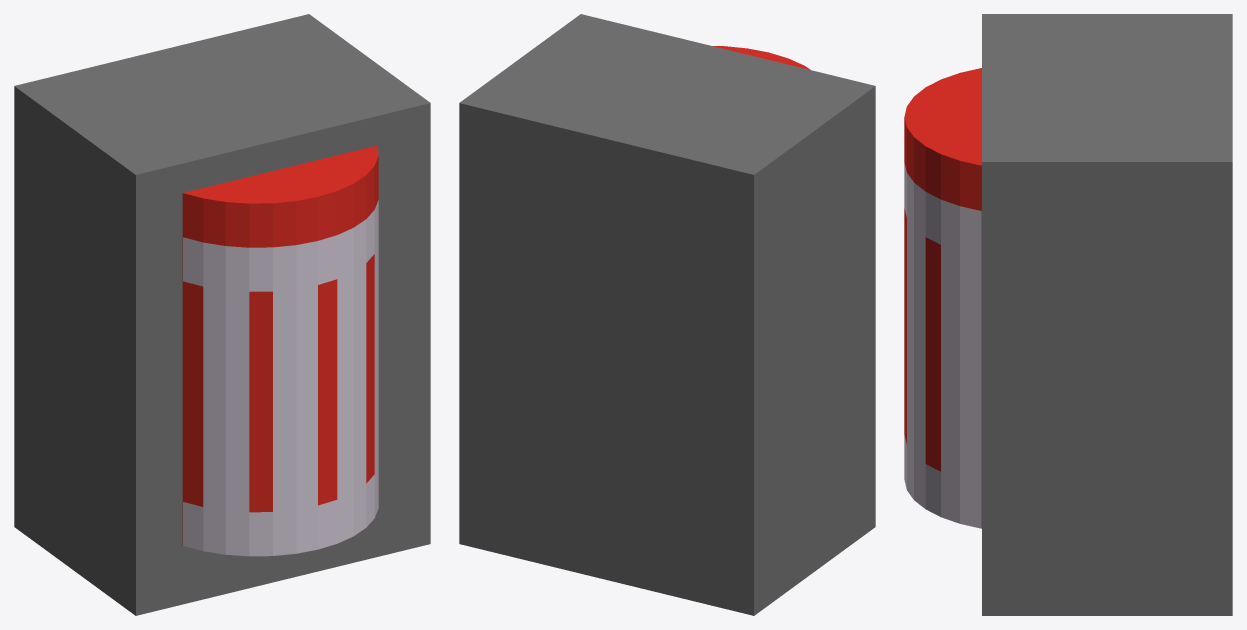
The model's file is boiler.glb.
The picture shows the model from 3 angles, left to right: view 1: azimuth 30°, elevation 25°; view 2: azimuth 150°, elevation 25°; view 3: azimuth 270°, elevation 25°; orthographic projection. The views are drawn at different scales.
Parts seen in each view (by area): view 1: Boiler; view 2: Boiler; view 3: Boiler.
Boxes of the visible parts, bbox=[...] form: Boiler: bbox=[14, 14, 430, 615]; Boiler: bbox=[459, 14, 875, 615]; Boiler: bbox=[904, 14, 1232, 615].
Bounding box in the file's own units: 1.4 × 2 × 1.31.
